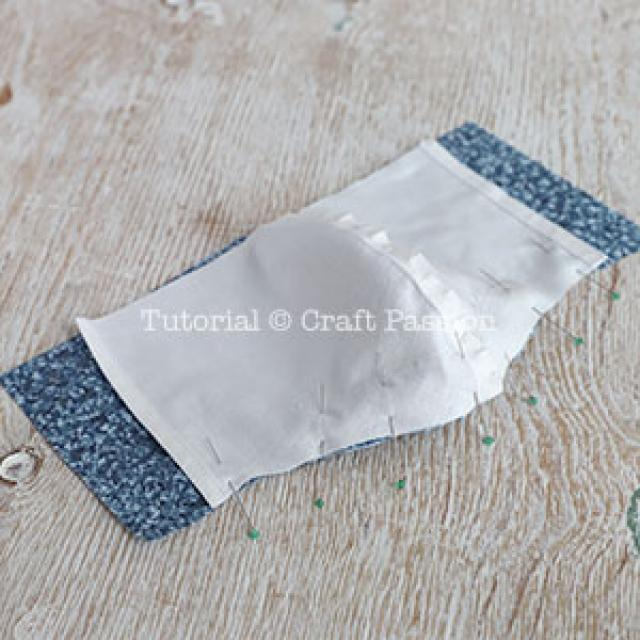face mask: (10, 110, 628, 532)
